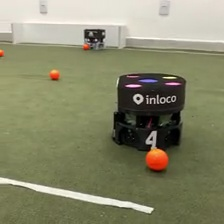ball: (144, 146, 170, 173), (48, 68, 61, 80), (82, 42, 89, 50), (1, 48, 6, 56)
goal: (9, 20, 128, 50)
robot: (110, 69, 189, 153), (81, 27, 107, 52)
